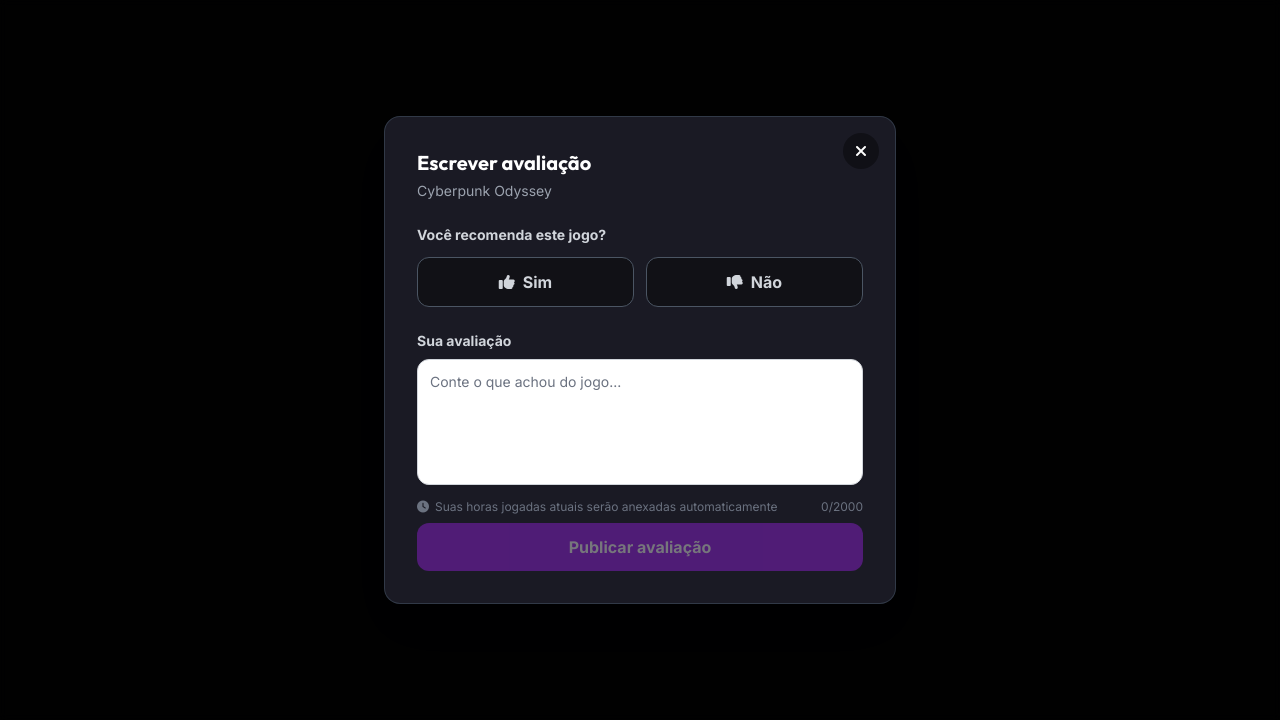
Test: ReviewFormModal Component › mantém o botão de publicar desabilitado até recomendação e texto serem preenchidos
Expected: the button "Publicar avaliação" is disabled, [417, 523, 863, 571]
Click the button "Sim" at (526, 282), box [417, 257, 634, 307]
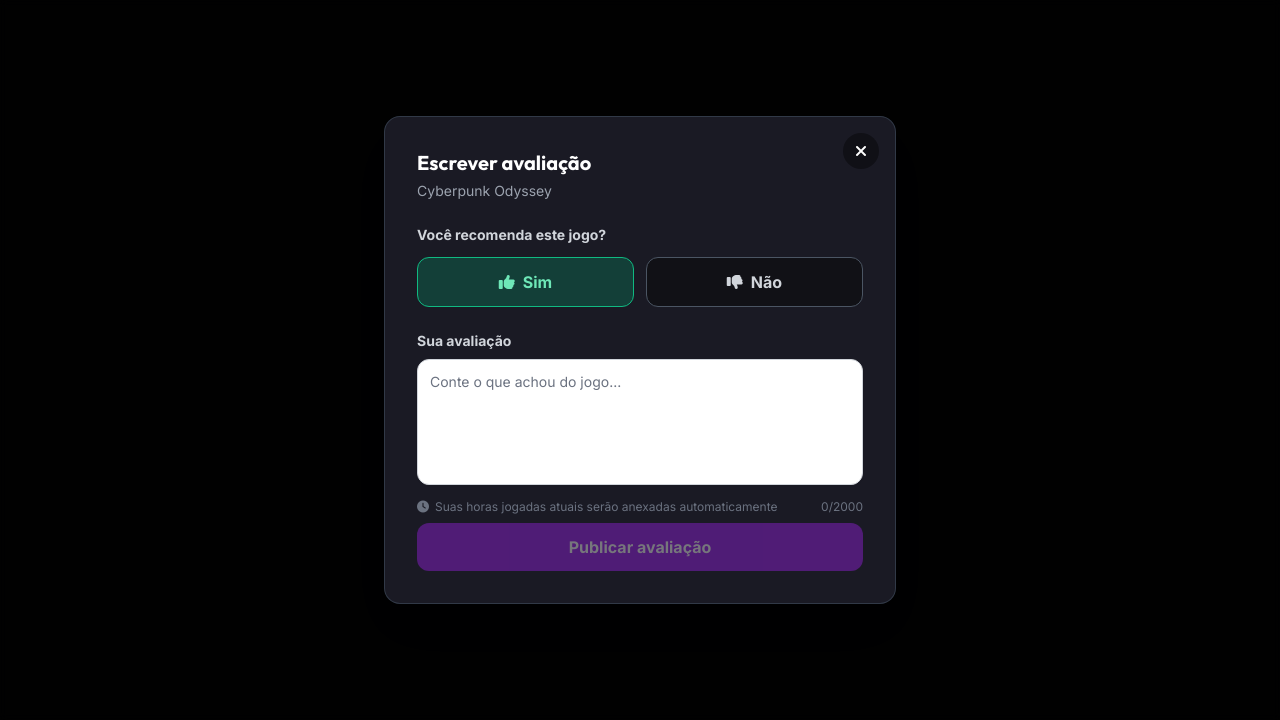
Expected: the button "Publicar avaliação" is disabled, [417, 523, 863, 571]
Type "Muito bom!" into the text box labelled "Sua avaliação" at (640, 422), box [417, 359, 863, 485]
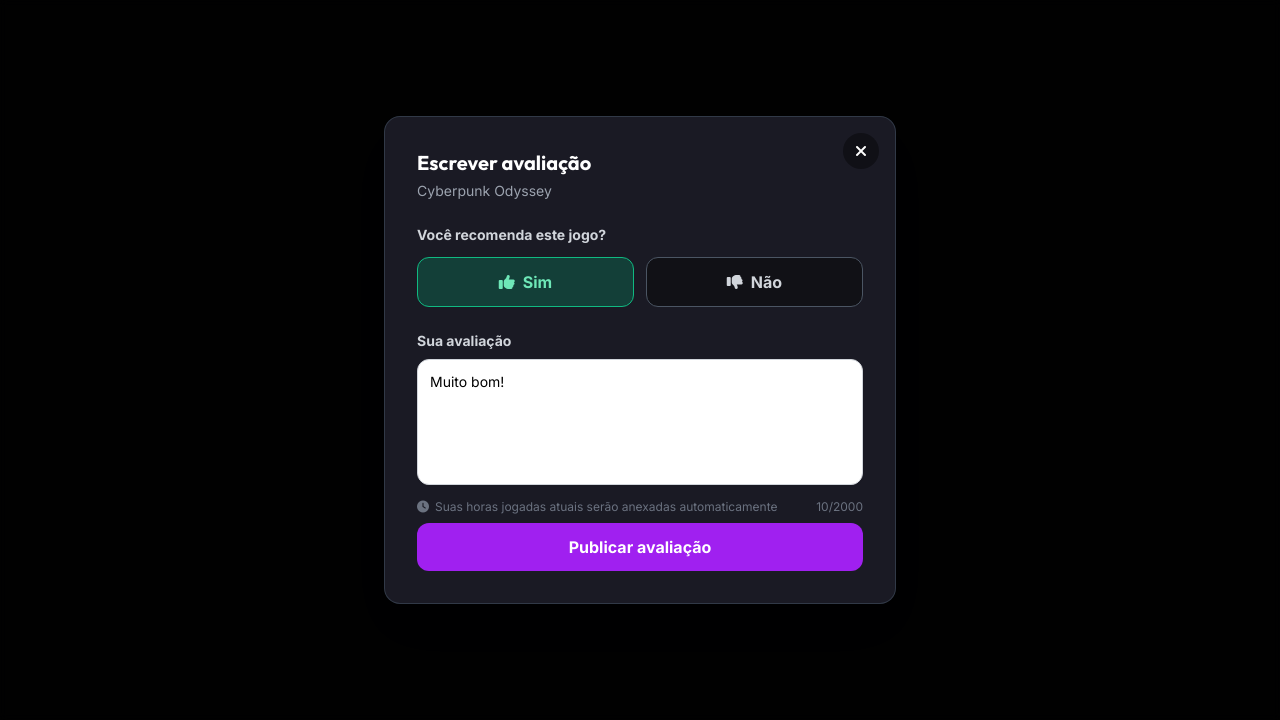
Expected: the button "Publicar avaliação" is enabled, [417, 523, 863, 571]
